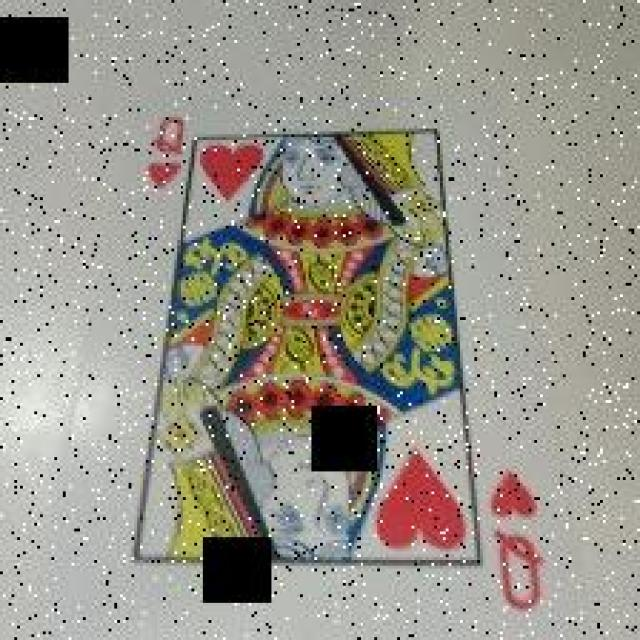Queen of hearts: (120, 94, 549, 623)
